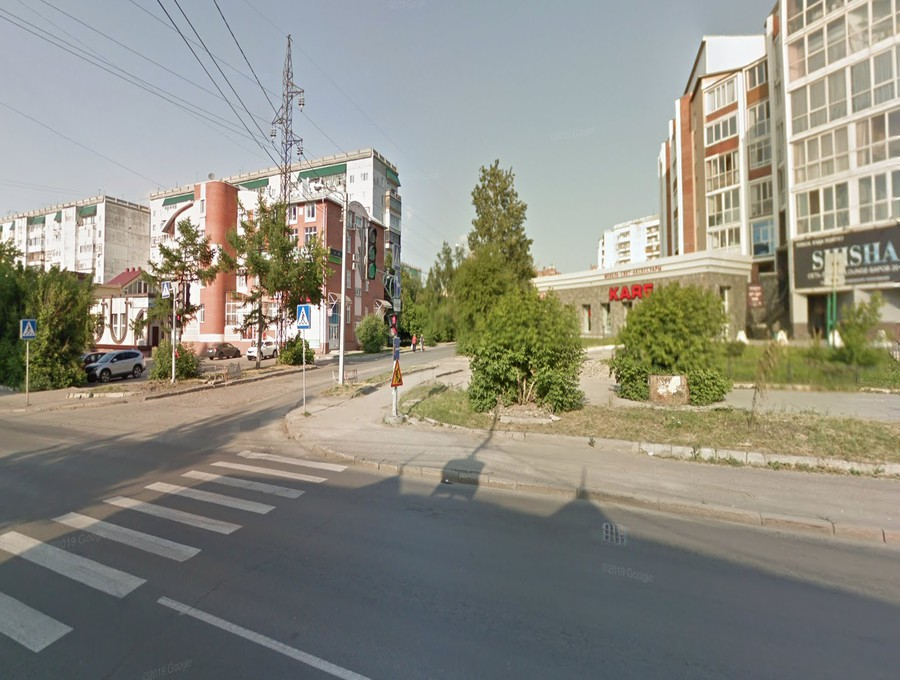Traffic Light-red: (386, 311, 401, 339)
